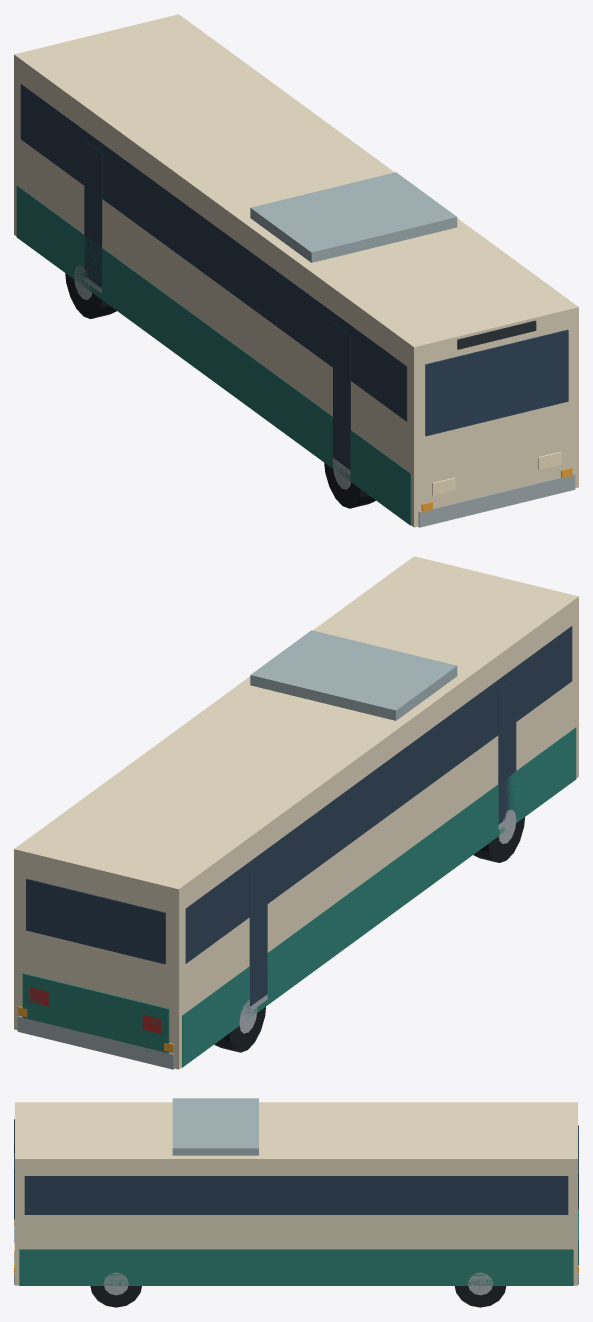
File: npc_city_bus_lod1.glb
The picture shows the model from 3 angles, top to bottom: view 1: azimuth 30°, elevation 25°; view 2: azimuth 150°, elevation 25°; view 3: azimuth 270°, elevation 25°; orthographic projection. The views are drawn at different scales.
Visible parts, largest first — view 1: body, window_band_R, teal_skirt_R, roof_ac, front_windshield, front_bumper, passenger_door_1, passenger_door_0, route_display, wheel_R_R_tire, wheel_F_R_tire; view 2: body, window_band_R, teal_skirt_R, roof_ac, rear_window, rear_skirt, passenger_door_1, rear_bumper, passenger_door_0, wheel_F_R_tire, wheel_R_R_tire; view 3: body, window_band_L, teal_skirt_L, roof_ac, wheel_R_L_tire, wheel_F_L_tire, wheel_R_L_hub, wheel_F_L_hub.
Boxes of the visible parts, left/top/right/bottom form: body: left=14, top=14, right=578, bottom=527; window_band_R: left=20, top=84, right=407, bottom=421; teal_skirt_R: left=16, top=185, right=410, bottom=525; roof_ac: left=250, top=172, right=457, bottom=262; front_windshield: left=425, top=329, right=568, bottom=436; front_bumper: left=418, top=474, right=575, bottom=527; passenger_door_1: left=84, top=140, right=102, bottom=288; passenger_door_0: left=333, top=322, right=350, bottom=469; route_display: left=457, top=320, right=536, bottom=349; wheel_R_R_tire: left=65, top=273, right=116, bottom=318; wheel_F_R_tire: left=324, top=463, right=375, bottom=508; body: left=14, top=556, right=578, bottom=1069; window_band_R: left=185, top=626, right=572, bottom=963; teal_skirt_R: left=182, top=727, right=576, bottom=1067; roof_ac: left=250, top=630, right=457, bottom=720; rear_window: left=26, top=878, right=165, bottom=964; rear_skirt: left=22, top=973, right=169, bottom=1053; passenger_door_1: left=249, top=859, right=267, bottom=1006; rear_bumper: left=17, top=1016, right=174, bottom=1069; passenger_door_0: left=498, top=677, right=516, bottom=824; wheel_F_R_tire: left=473, top=817, right=524, bottom=862; wheel_R_R_tire: left=214, top=1007, right=265, bottom=1052; body: left=15, top=1102, right=577, bottom=1285; window_band_L: left=24, top=1176, right=568, bottom=1214; teal_skirt_L: left=19, top=1249, right=573, bottom=1285; roof_ac: left=172, top=1098, right=258, bottom=1155; wheel_R_L_tire: left=454, top=1286, right=506, bottom=1307; wheel_F_L_tire: left=90, top=1286, right=141, bottom=1307; wheel_R_L_hub: left=468, top=1272, right=492, bottom=1295; wheel_F_L_hub: left=103, top=1272, right=128, bottom=1295.
Bounding box in the file's own units: 2.5 × 3.2 × 10.5.
